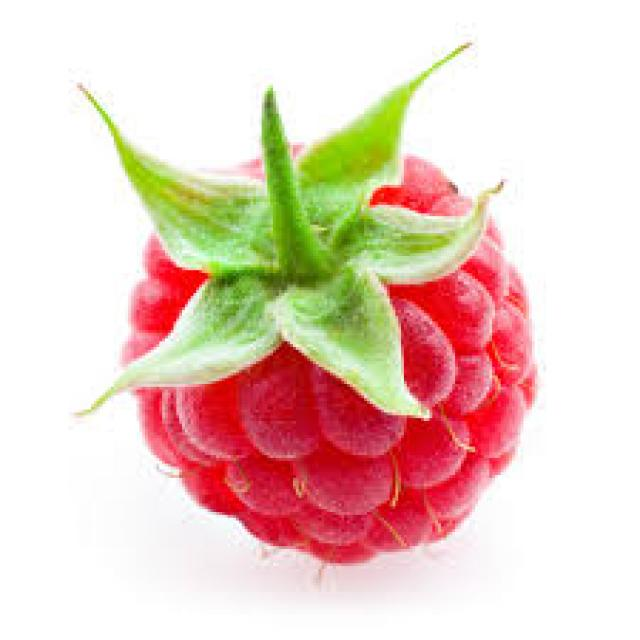organic waste: (71, 40, 532, 563)
